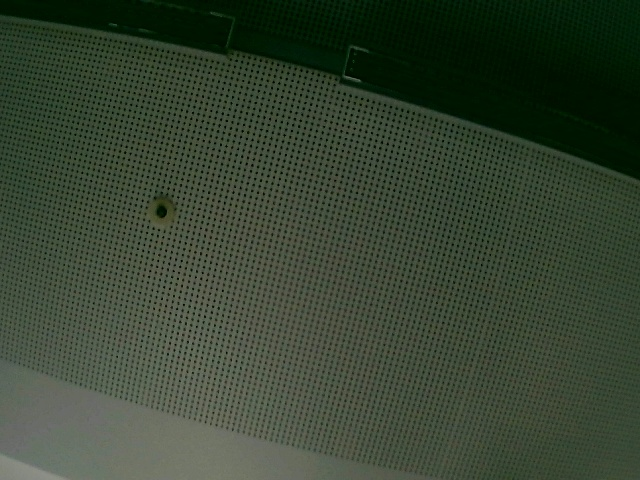no_gesture: (1, 10, 639, 478)
